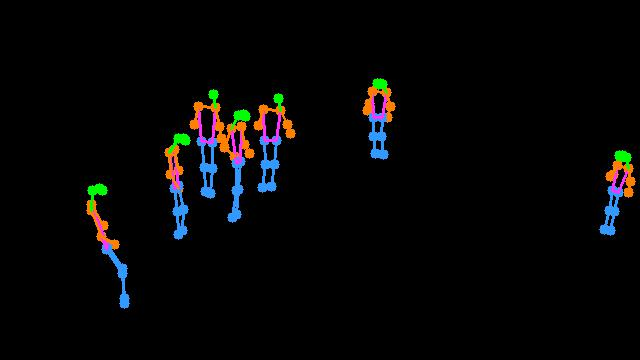normal: (347, 69, 409, 165), (157, 128, 198, 245)
